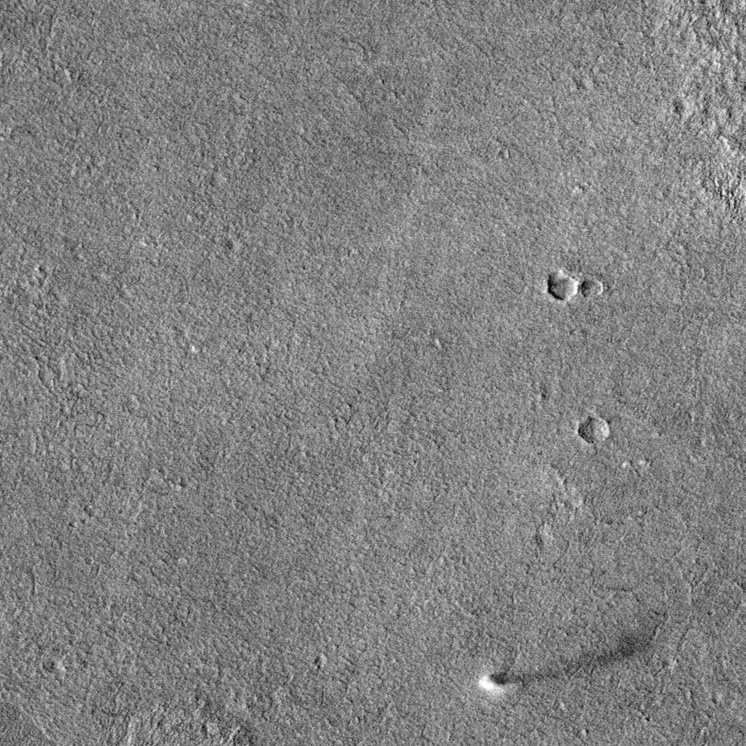dust_devil: (475, 634, 650, 700)
